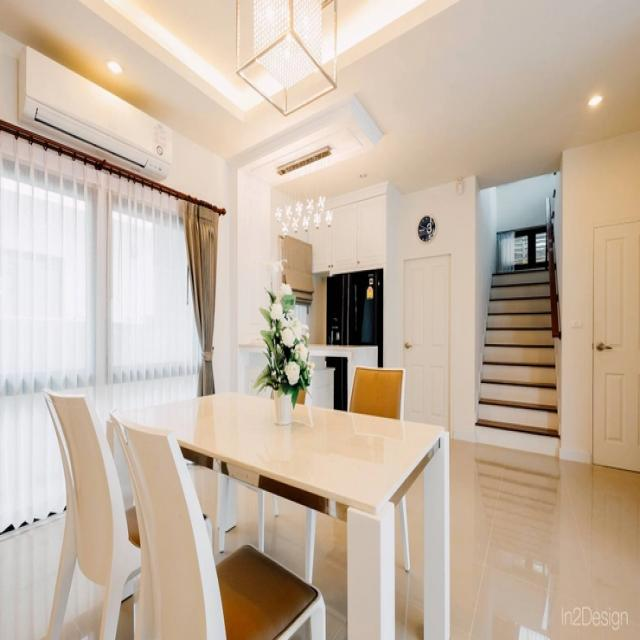table: (110, 361, 454, 544)
